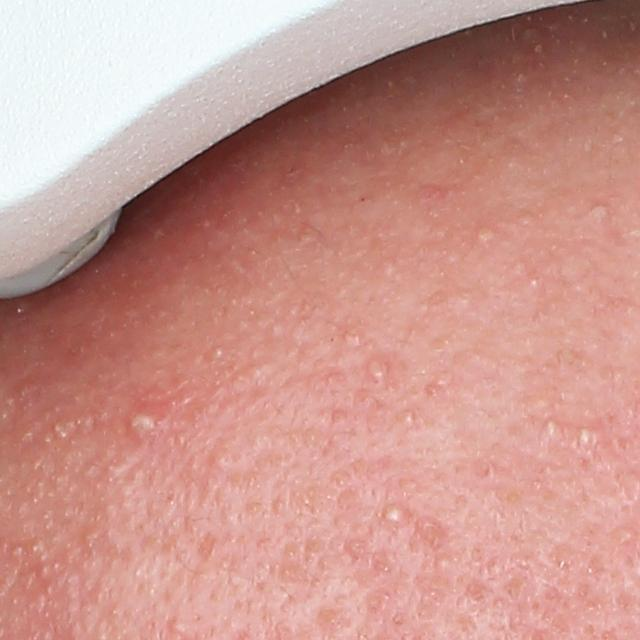comedo: (339, 328, 362, 353), (207, 448, 232, 471), (588, 199, 611, 220), (432, 552, 454, 573), (167, 618, 190, 638), (334, 471, 351, 488), (402, 410, 419, 426), (246, 501, 263, 516), (301, 493, 315, 510), (208, 347, 225, 359), (284, 543, 297, 558), (527, 275, 543, 287), (558, 554, 571, 568)
pustule: (359, 352, 395, 388), (125, 408, 162, 441), (573, 424, 610, 451), (378, 502, 409, 527), (540, 413, 567, 437), (475, 223, 504, 245)
